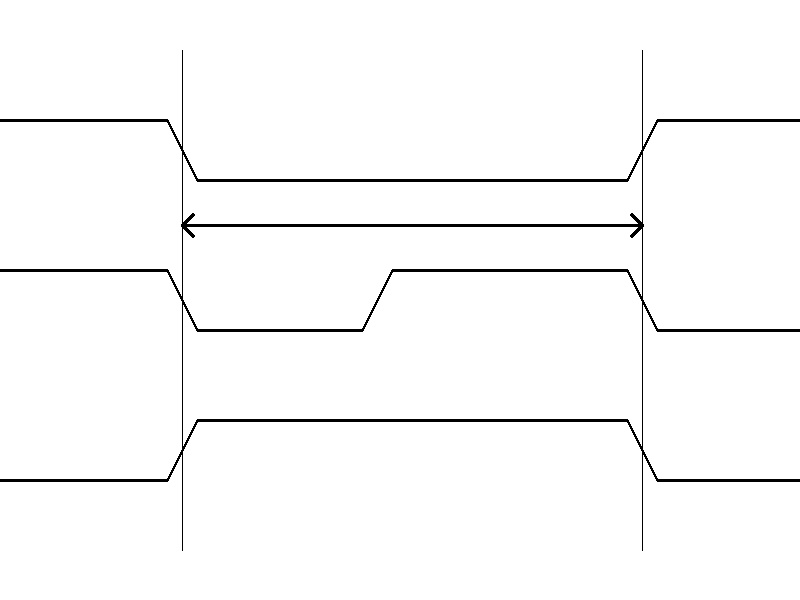double_arrow: (182, 210, 642, 240)
